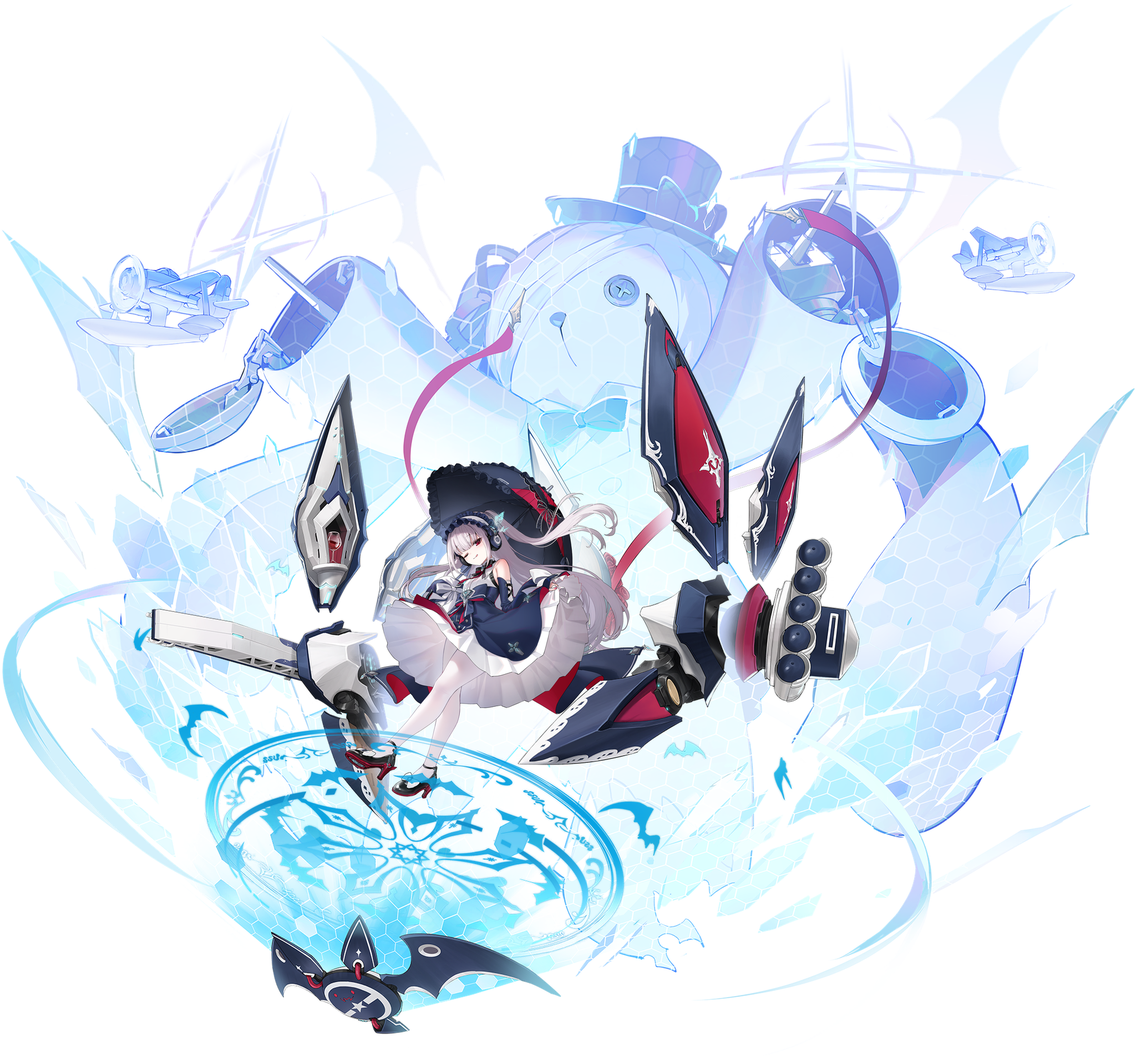person: (273, 421, 660, 846)
